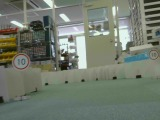speed_10: (11, 53, 31, 70), (148, 49, 160, 61)
